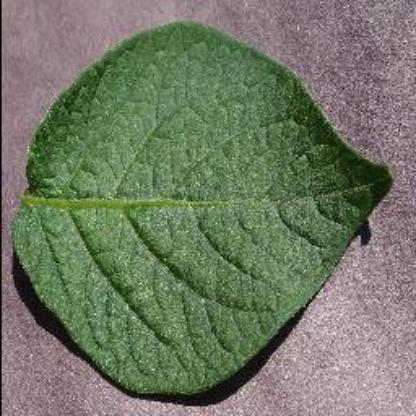Healthy-plant: (16, 21, 404, 406)
